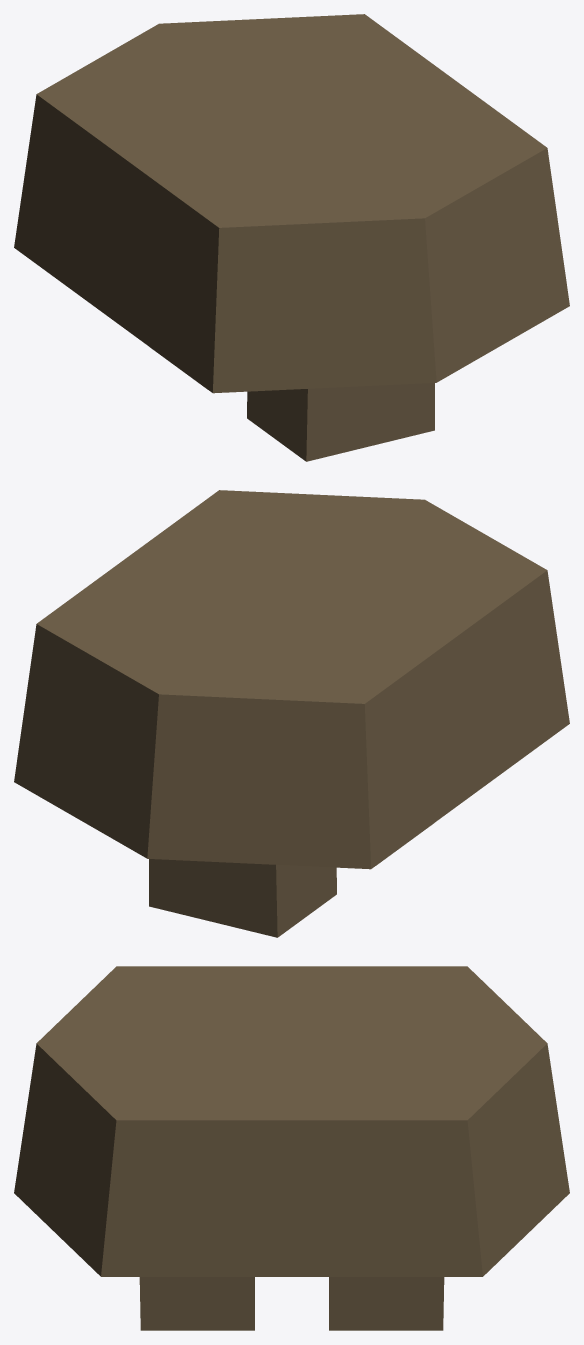
File: DefaultLegs.fbx
The picture shows the model from 3 angles, top to bottom: view 1: azimuth 30°, elevation 25°; view 2: azimuth 150°, elevation 25°; view 3: azimuth 270°, elevation 25°; orthographic projection. The views are drawn at different scales.
Parts seen in each view (by area): view 1: Default Leggings; view 2: Default Leggings; view 3: Default Leggings.
Part boxes in pixels (left/top/right/bottom): Default Leggings: left=14, top=14, right=569, bottom=461; Default Leggings: left=14, top=490, right=569, bottom=937; Default Leggings: left=14, top=966, right=569, bottom=1330.
Bounding box in the file's own units: 211 × 151 × 296.
